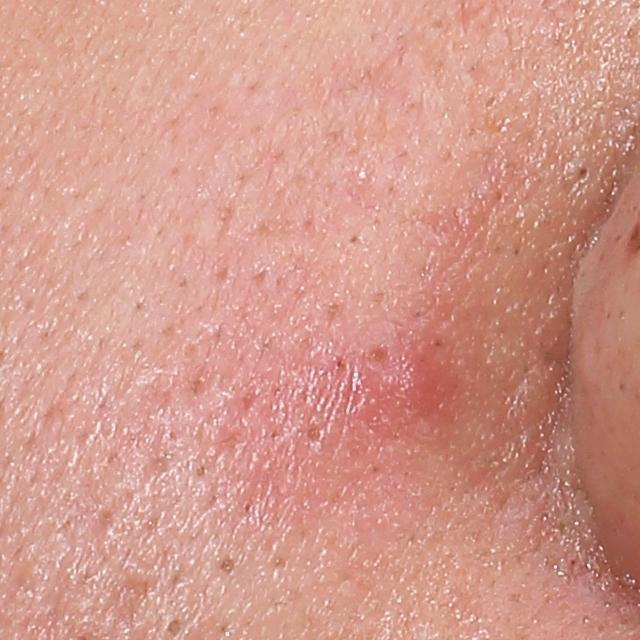atrophic_scar: (100, 574, 158, 631)
comedo: (570, 159, 599, 184), (218, 555, 238, 574)
papule: (385, 361, 445, 410)
